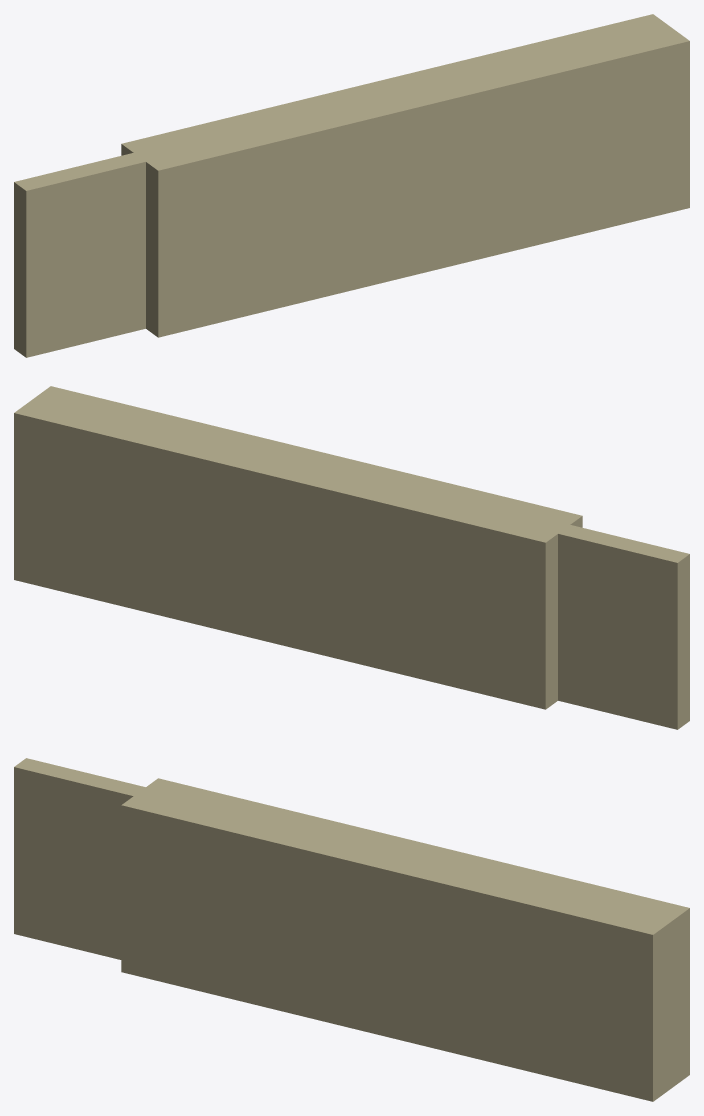
The model's file is lake-karas-shallows-0.glb.
3 renders of one model, top to bottom at view 1: azimuth 30°, elevation 25°; view 2: azimuth 150°, elevation 25°; view 3: azimuth 330°, elevation 25°, orthographic.
Parts seen in each view (by area): view 1: body, tail; view 2: body, tail; view 3: body, tail.
Part boxes in pixels (<box>): body: <box>121,14,689,337</box>; tail: <box>14,150,157,357</box>; body: <box>14,386,582,709</box>; tail: <box>546,522,689,729</box>; body: <box>121,778,689,1101</box>; tail: <box>14,758,157,959</box>.
Bounding box in the file's own units: 0.3063 × 0.075 × 0.03.
